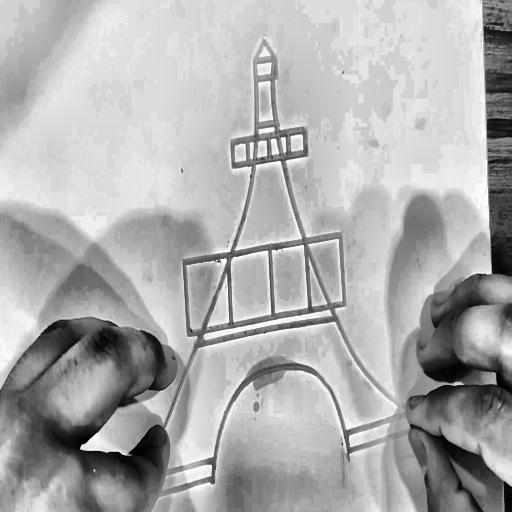eiffel-tower: (99, 9, 454, 512)
